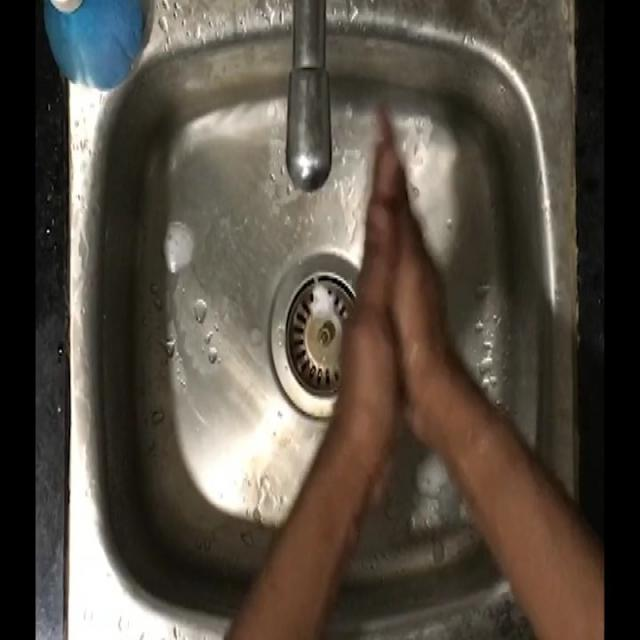step_1: (337, 90, 460, 403)
